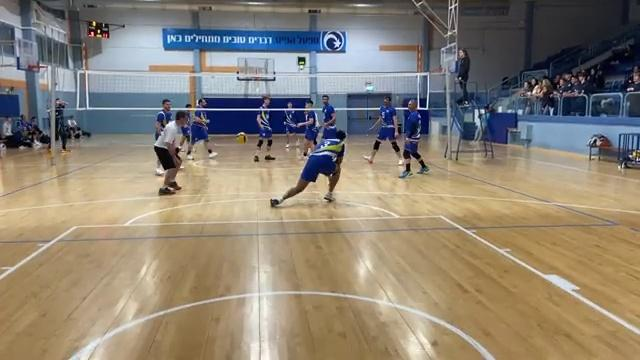ball: (235, 132, 249, 144)
